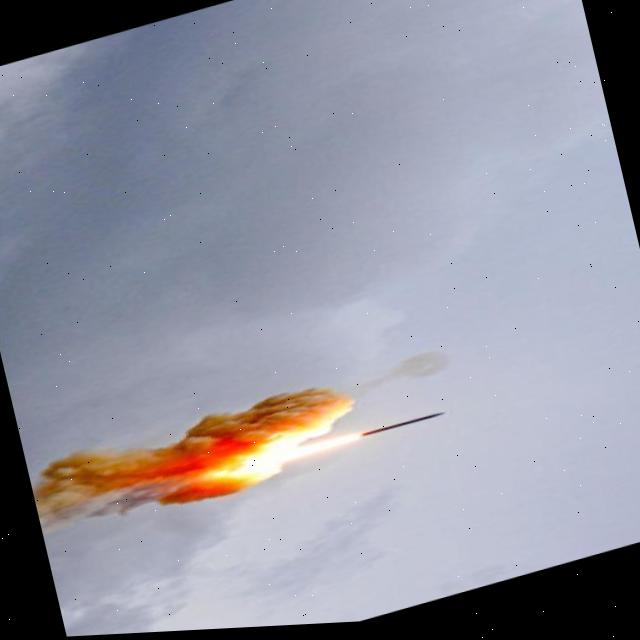missile: (354, 406, 452, 445)
